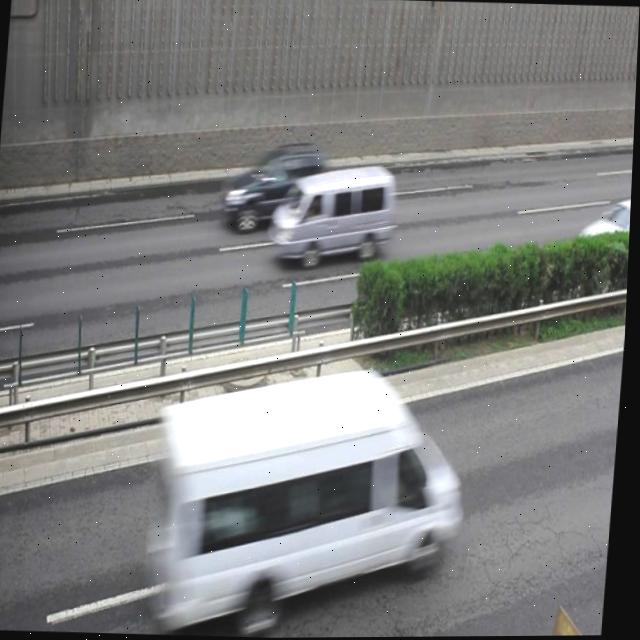car: (219, 140, 334, 235), (572, 195, 633, 272)
truck: (145, 361, 473, 637), (270, 162, 398, 270)
